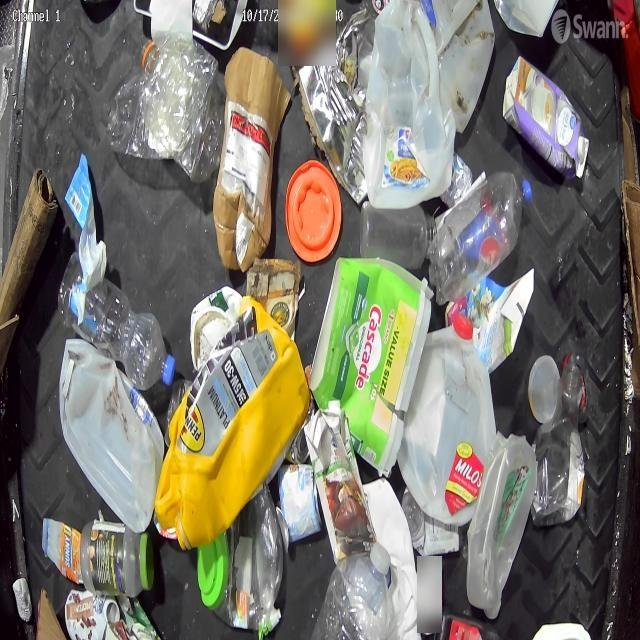milk_jug: (60, 338, 164, 540), (399, 326, 497, 532), (368, 0, 456, 209), (466, 434, 538, 620)
non_white_jug: (156, 295, 310, 551), (502, 55, 590, 183)
plastic_bottle: (59, 253, 174, 388), (430, 173, 534, 305), (140, 42, 220, 164), (305, 545, 392, 640)
